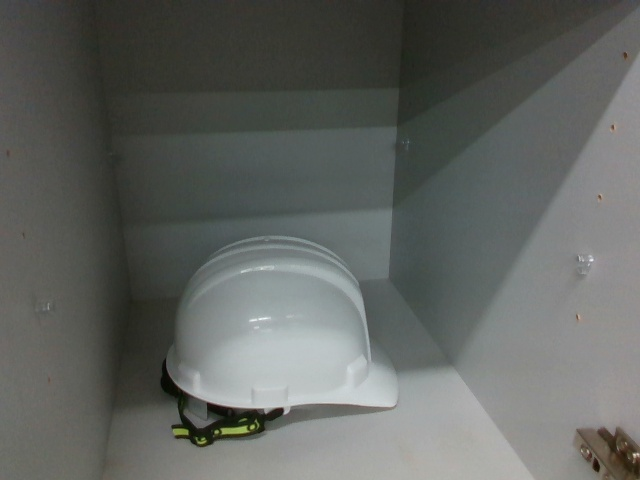helmet: (159, 232, 400, 445)
